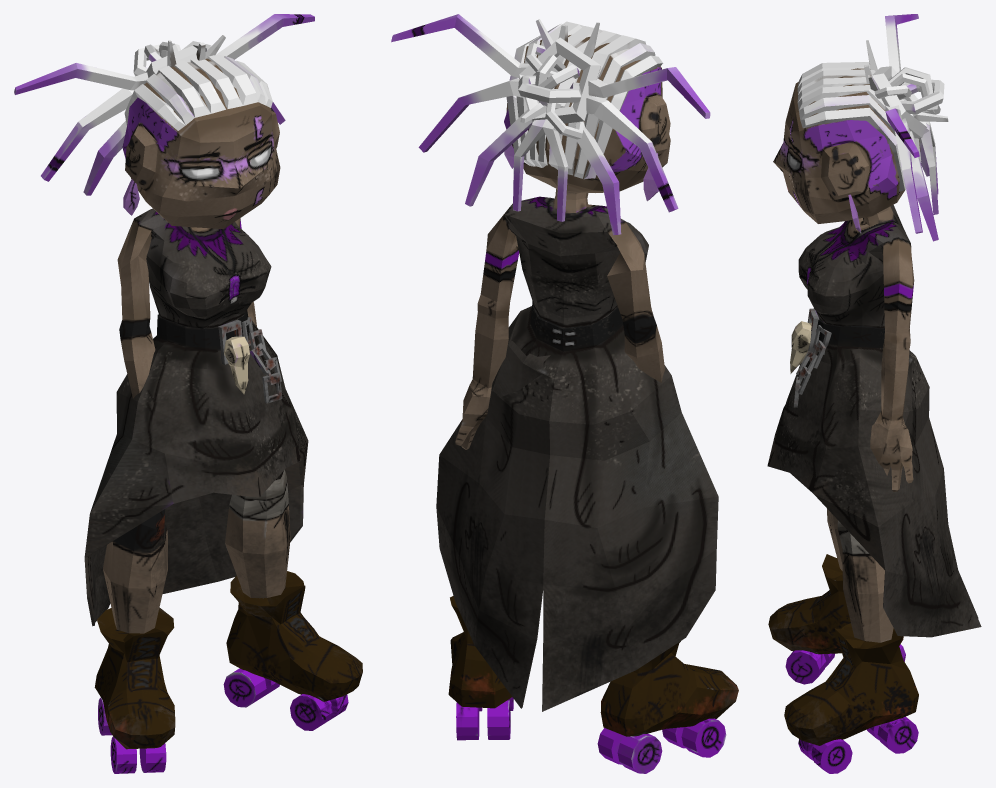
Rendered from bruja_000046.obj.
The picture shows the model from 3 angles, left to right: view 1: azimuth 30°, elevation 25°; view 2: azimuth 150°, elevation 25°; view 3: azimuth 270°, elevation 25°; orthographic projection. The views are drawn at different scales.
Parts seen in each view (by area): view 1: Bruja_Plane.001; view 2: Bruja_Plane.001; view 3: Bruja_Plane.001.
Boxes of the visible parts, bbox=[...] form: Bruja_Plane.001: bbox=[14, 14, 362, 773]; Bruja_Plane.001: bbox=[391, 14, 738, 773]; Bruja_Plane.001: bbox=[767, 14, 981, 773].
Size of the model in its own units: 7.48 by 16.59 by 4.84.
